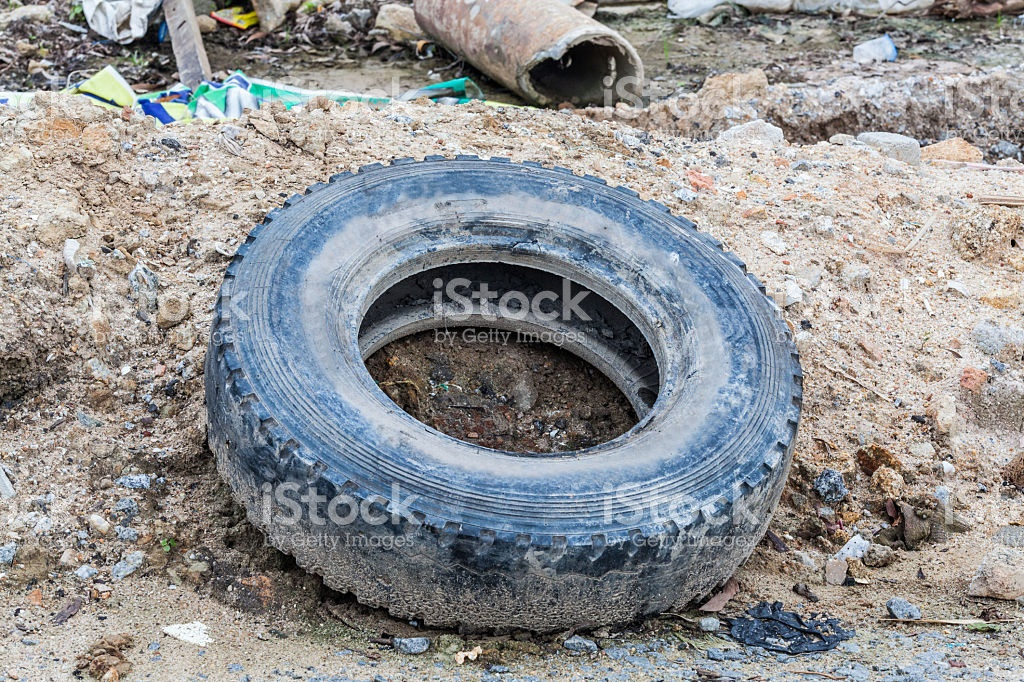tire: (206, 151, 810, 642)
